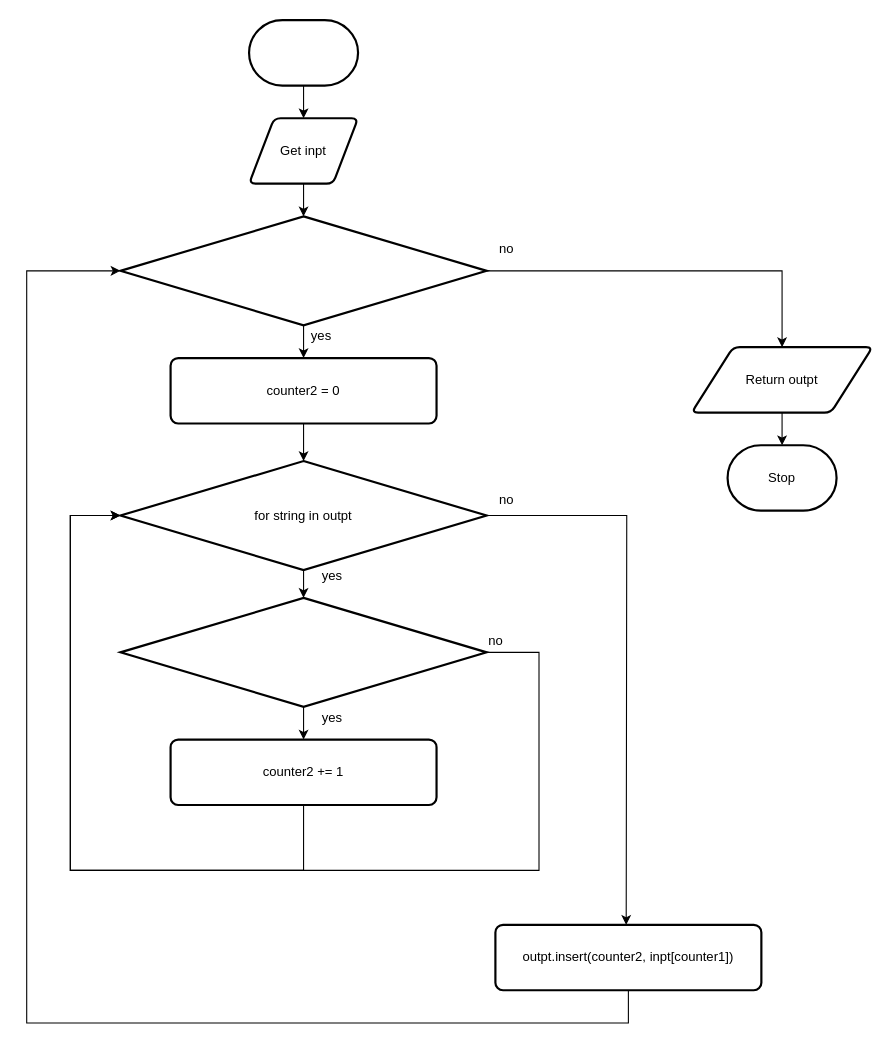
The diagram is 893 pixels wide and 1051 high, and some of its shapes have lost their labels. Here are the shapes that lost their labels. From the top down, the centre of each, then its label:
At (303,52): "Start".
At (303,270): "for counter1 in range(len(inpt))".
At (303,651): "if len(string) > len(inpt[counter1])".
